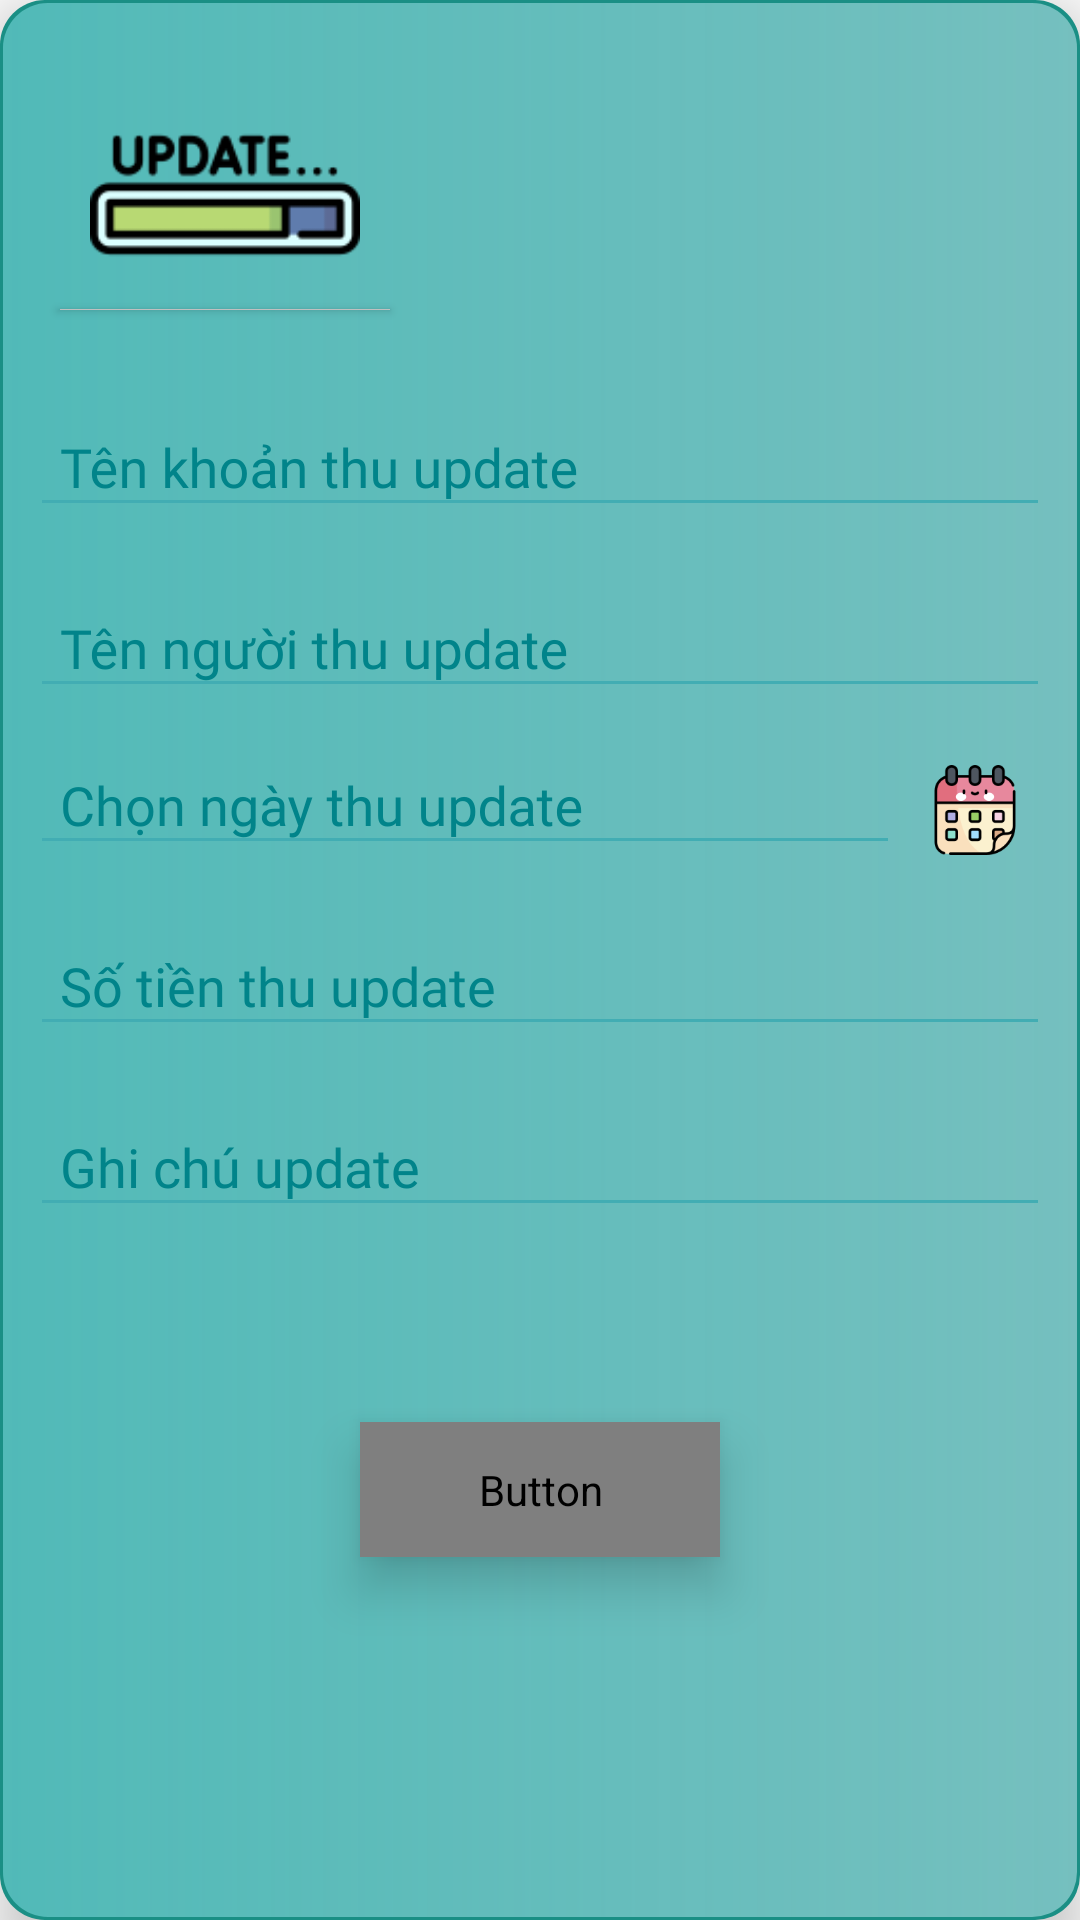

Icons on this 1080x1920 Android screen, each with the point to tap as (x,y):
calendar: (975,810)
